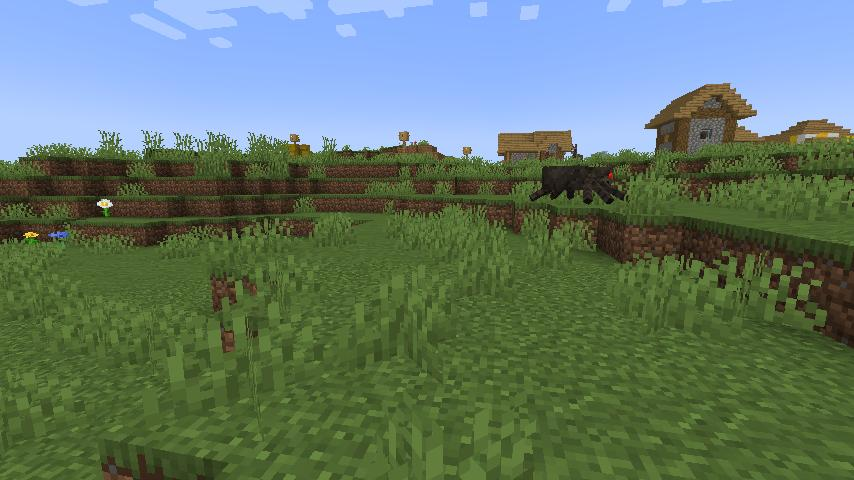spider: (529, 163, 629, 206)
